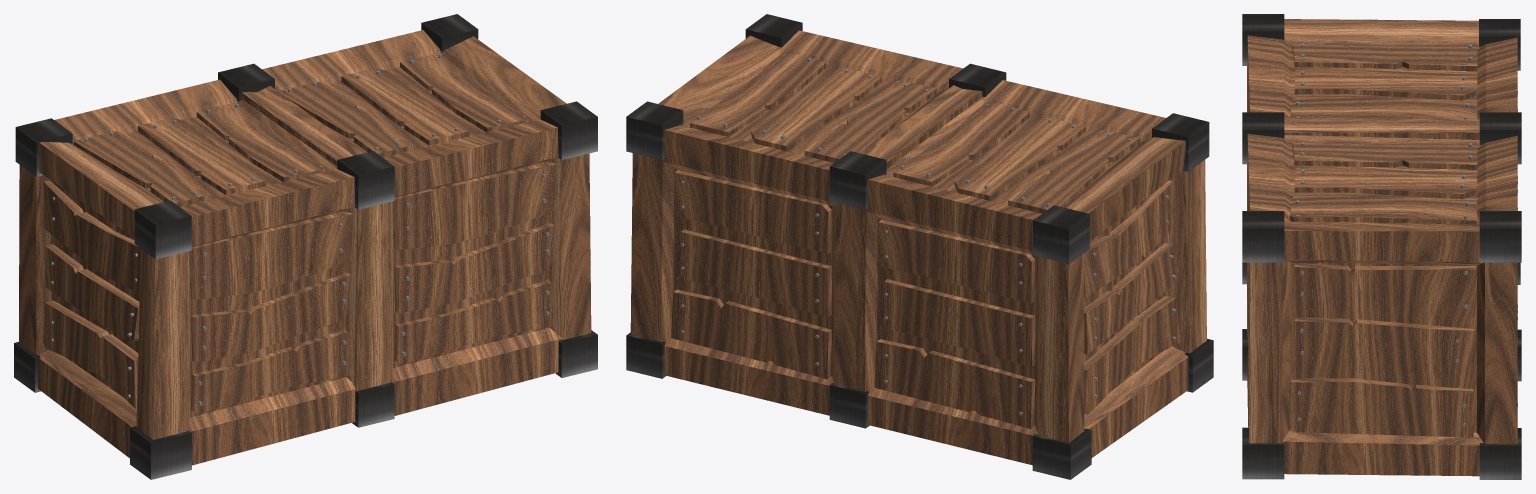
The model's file is CajaMovilDoble.glb.
3 views of the same model, side by side, from view 1: azimuth 30°, elevation 25°; view 2: azimuth 150°, elevation 25°; view 3: azimuth 270°, elevation 25° (orthographic).
Visible parts, largest first — view 1: Cubo.018, Cubo, Cubo.016, Cubo.011, Cubo.015, Cubo.004, Cubo.017, Cubo.007, Cubo.012, Cubo.005, Cubo.014, Cubo.010; view 2: Cubo.018, Cubo, Cubo.017, Cubo.005, Cubo.014, Cubo.010, Cubo.016, Cubo.013, Cubo.006, Cubo.004, Cubo.015, Cubo.011; view 3: Cubo, Cubo.018, Cubo.004, Cubo.005, Cubo.007, Cubo.006, Cubo.014, Cubo.015, Cubo.016, Cubo.017, Cubo.012.
Boxes of the visible parts, <box> form: Cubo.018: <box>19,79,363,465</box>; Cubo: <box>242,30,591,425</box>; Cubo.016: <box>134,200,191,259</box>; Cubo.011: <box>130,426,191,479</box>; Cubo.015: <box>337,151,394,209</box>; Cubo.004: <box>540,101,597,159</box>; Cubo.017: <box>15,118,72,176</box>; Cubo.007: <box>555,330,597,377</box>; Cubo.012: <box>352,382,394,427</box>; Cubo.005: <box>421,14,478,52</box>; Cubo.014: <box>218,63,274,101</box>; Cubo.010: <box>14,342,40,392</box>; Cubo.018: <box>834,80,1206,465</box>; Cubo: <box>630,30,982,415</box>; Cubo.017: <box>1033,205,1089,263</box>; Cubo.005: <box>626,101,683,159</box>; Cubo.014: <box>829,151,886,209</box>; Cubo.010: <box>1032,428,1091,479</box>; Cubo.016: <box>1152,113,1209,171</box>; Cubo.013: <box>829,382,869,428</box>; Cubo.006: <box>626,332,665,378</box>; Cubo.004: <box>745,14,802,47</box>; Cubo.015: <box>949,63,1006,96</box>; Cubo.011: <box>1184,338,1213,392</box>; Cubo: <box>1247,117,1517,476</box>; Cubo.018: <box>1247,19,1517,139</box>; Cubo.004: <box>1242,211,1284,262</box>; Cubo.005: <box>1479,211,1521,262</box>; Cubo.007: <box>1242,427,1284,479</box>; Cubo.006: <box>1479,428,1521,479</box>; Cubo.014: <box>1479,112,1521,164</box>; Cubo.015: <box>1242,112,1284,164</box>; Cubo.016: <box>1242,14,1284,65</box>; Cubo.017: <box>1479,19,1520,70</box>; Cubo.012: <box>1242,329,1247,380</box>.
Size of the model in its own units: 3.86 by 2.11 by 2.1.
Materials: 158 (14 with a texture image).
